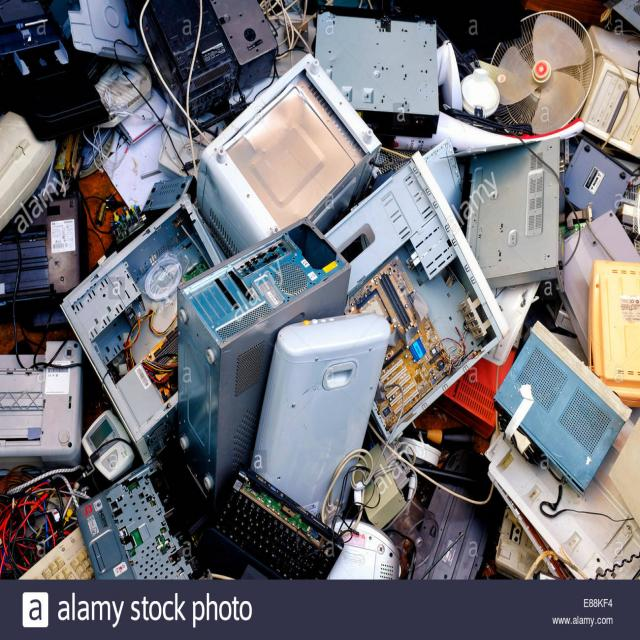heap: (18, 12, 640, 604)
